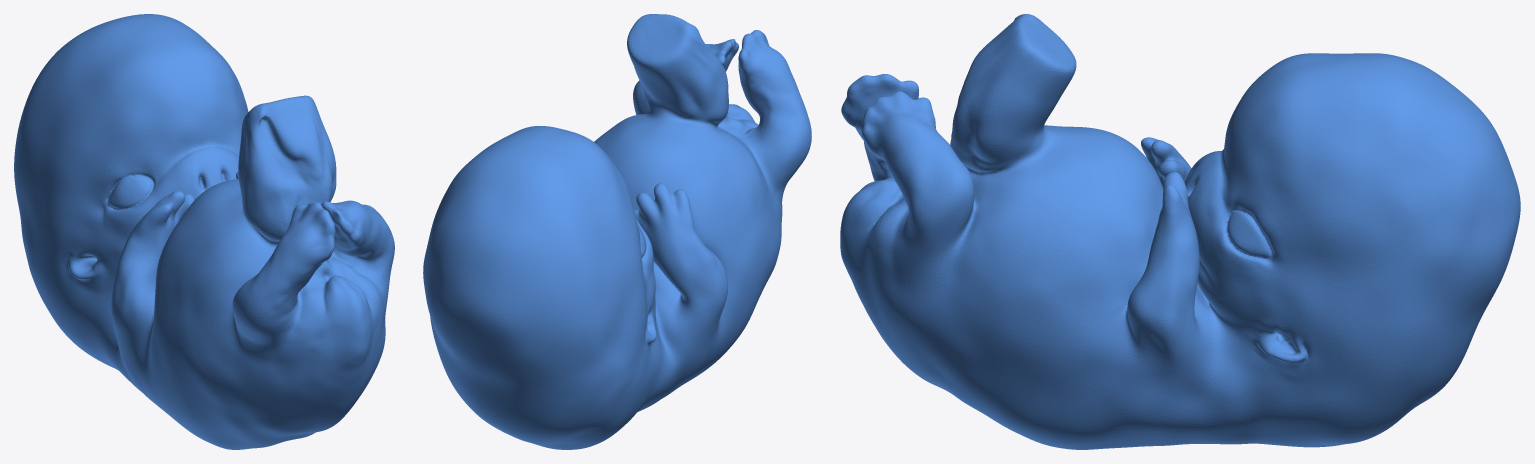
The model's file is carnegie-stage20-LH1Cwx0s.glb.
3 views of the same model, side by side, from view 1: azimuth 30°, elevation 25°; view 2: azimuth 150°, elevation 25°; view 3: azimuth 270°, elevation 25° (orthographic). The views are drawn at different scales.
Parts seen in each view (by area): view 1: stage20-repaired-nih3d; view 2: stage20-repaired-nih3d; view 3: stage20-repaired-nih3d.
Part boxes in pixels (box(x1,y1,x2,y2)): stage20-repaired-nih3d: box(14, 14, 394, 449); stage20-repaired-nih3d: box(423, 14, 811, 449); stage20-repaired-nih3d: box(840, 14, 1520, 449).
Size of the model in its own units: 77.69 by 125 by 183.
